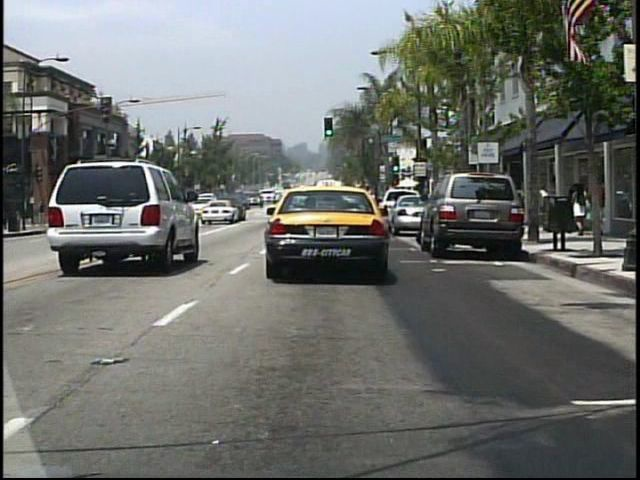person: (567, 179, 585, 233), (573, 181, 585, 238), (597, 172, 598, 233)
